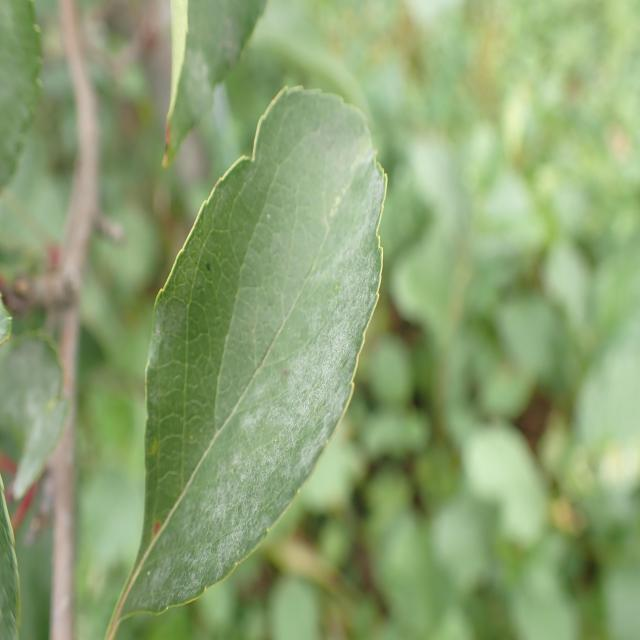Powdery_mildew: (132, 89, 383, 640), (156, 0, 266, 152)
